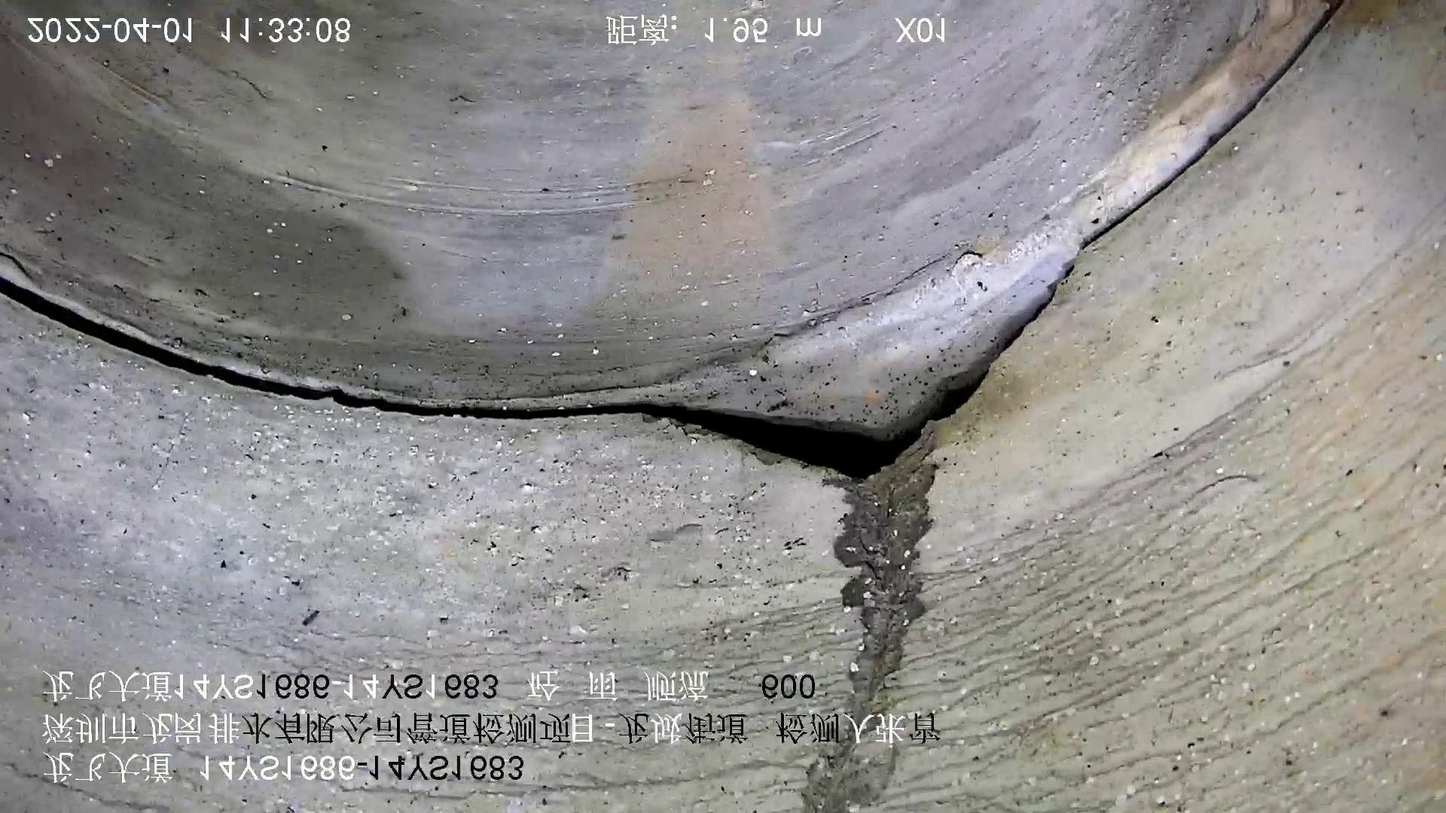PL: (0, 1, 1340, 476)
